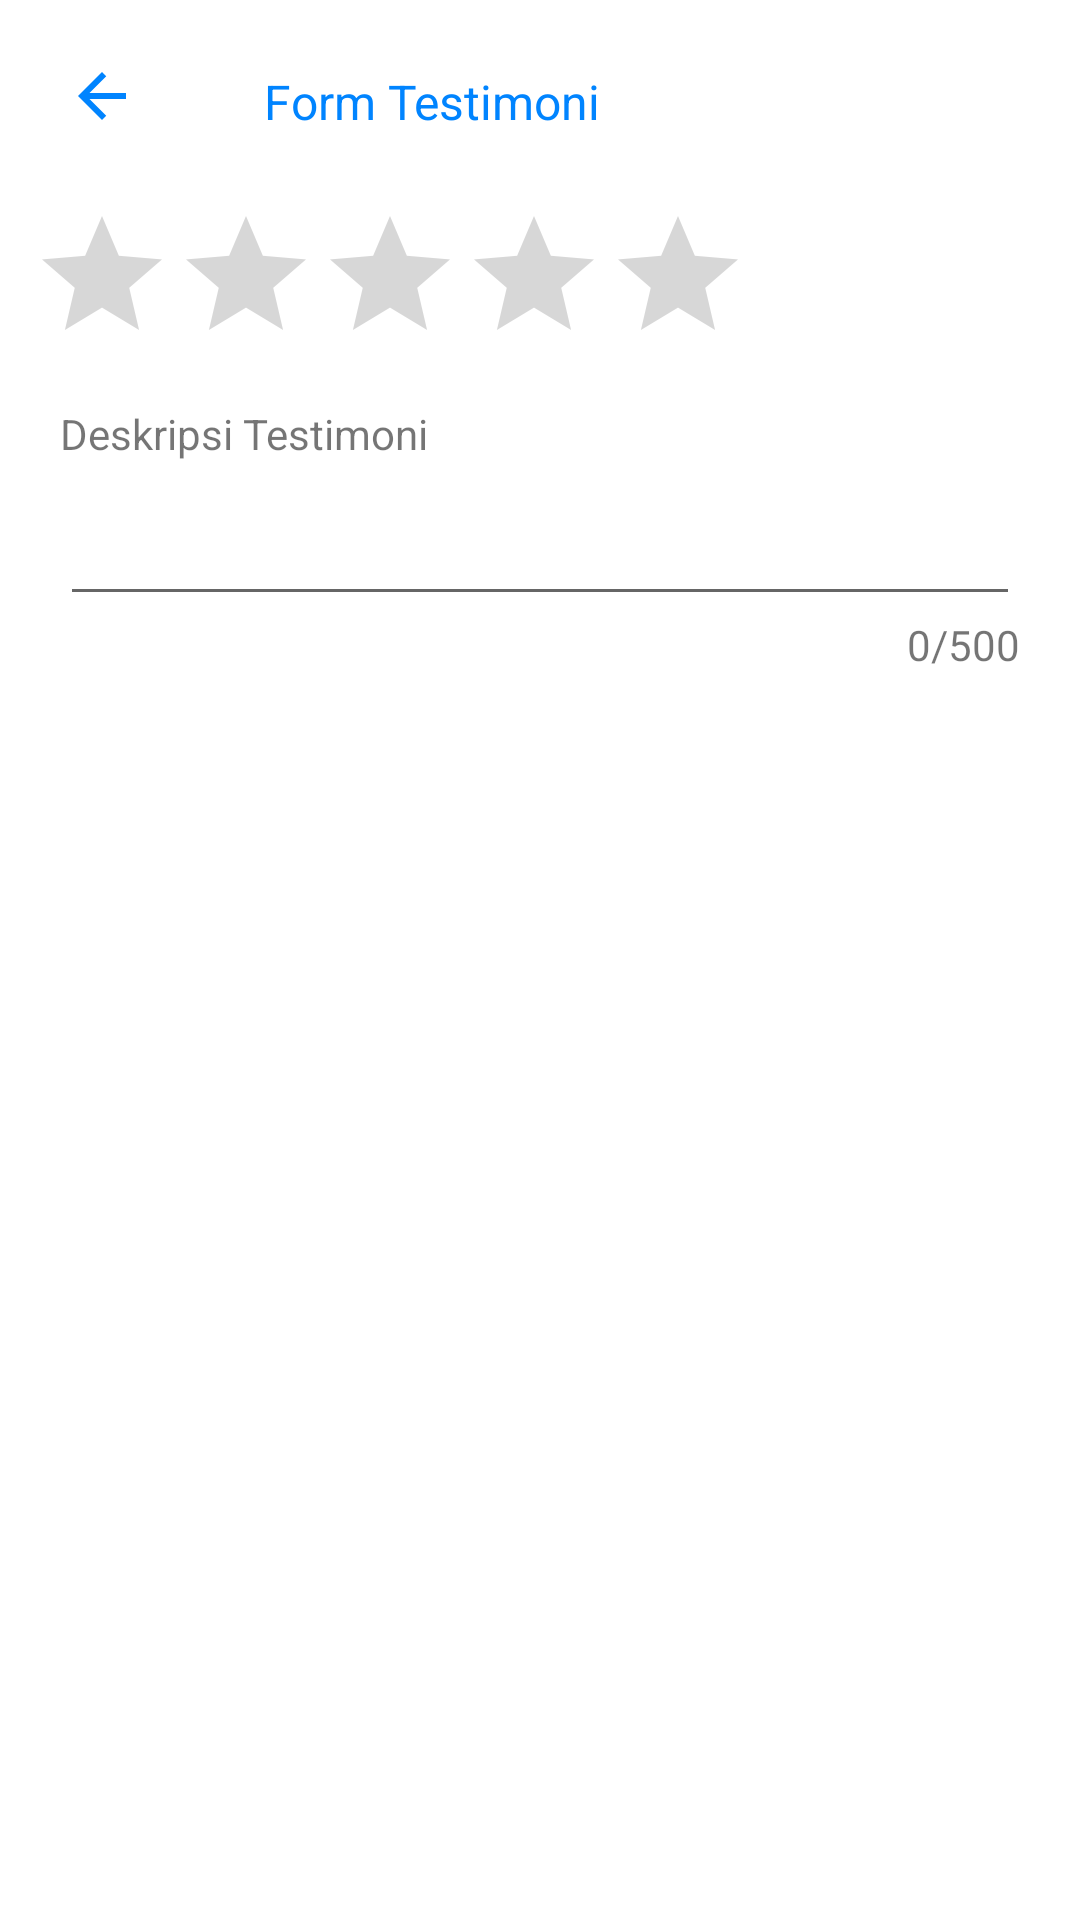

Where icons sit on this 1080 × 1920 app screen, as box=[x1, y1, x2, y2]:
back: box=[78, 72, 126, 120]
